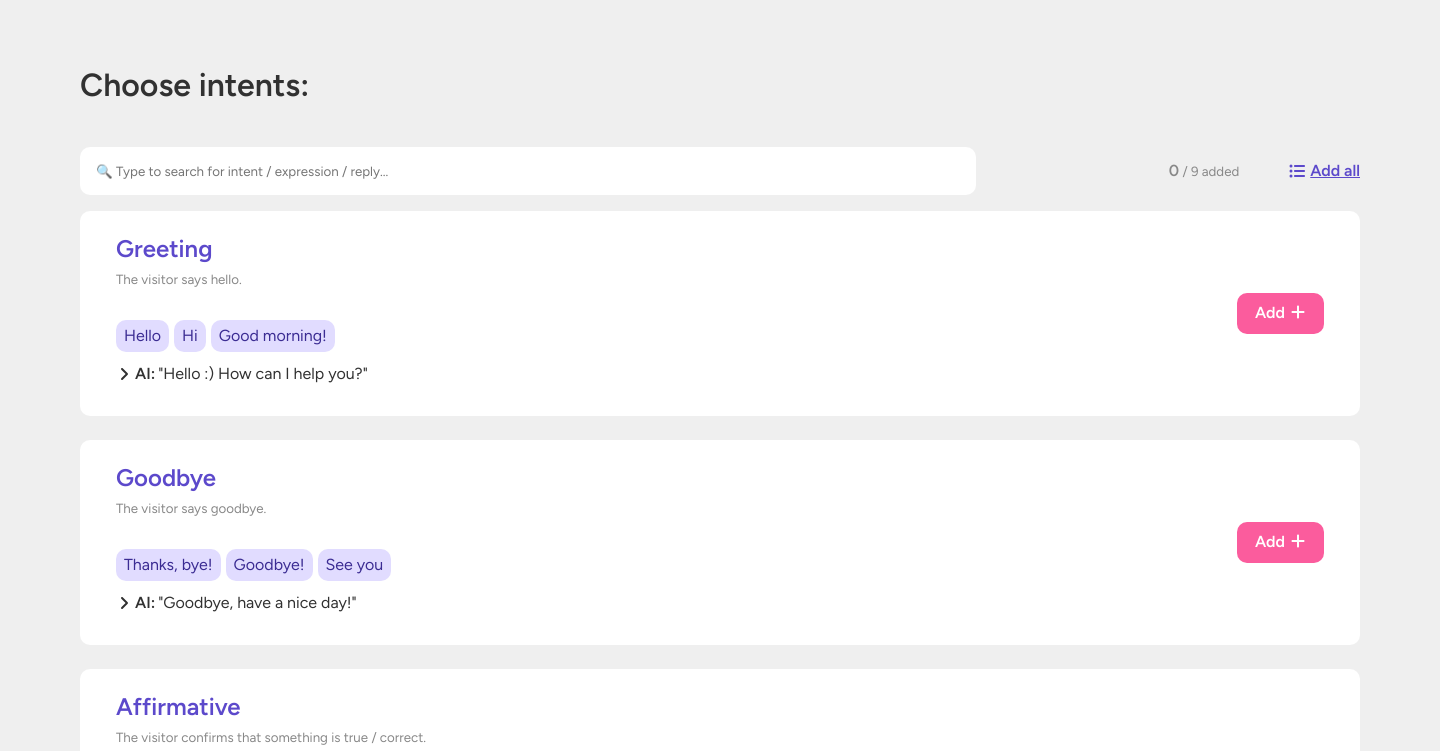
Test: e2e tests for intents: › shows a message if search returns no result
In the search field with placeholder "🔍 Type to search for intent / expression / reply...": (528, 171) left=80, top=147, right=976, bottom=195, type "hduhje984b8n3uu93n8u39un3fhskapmzbcx93"
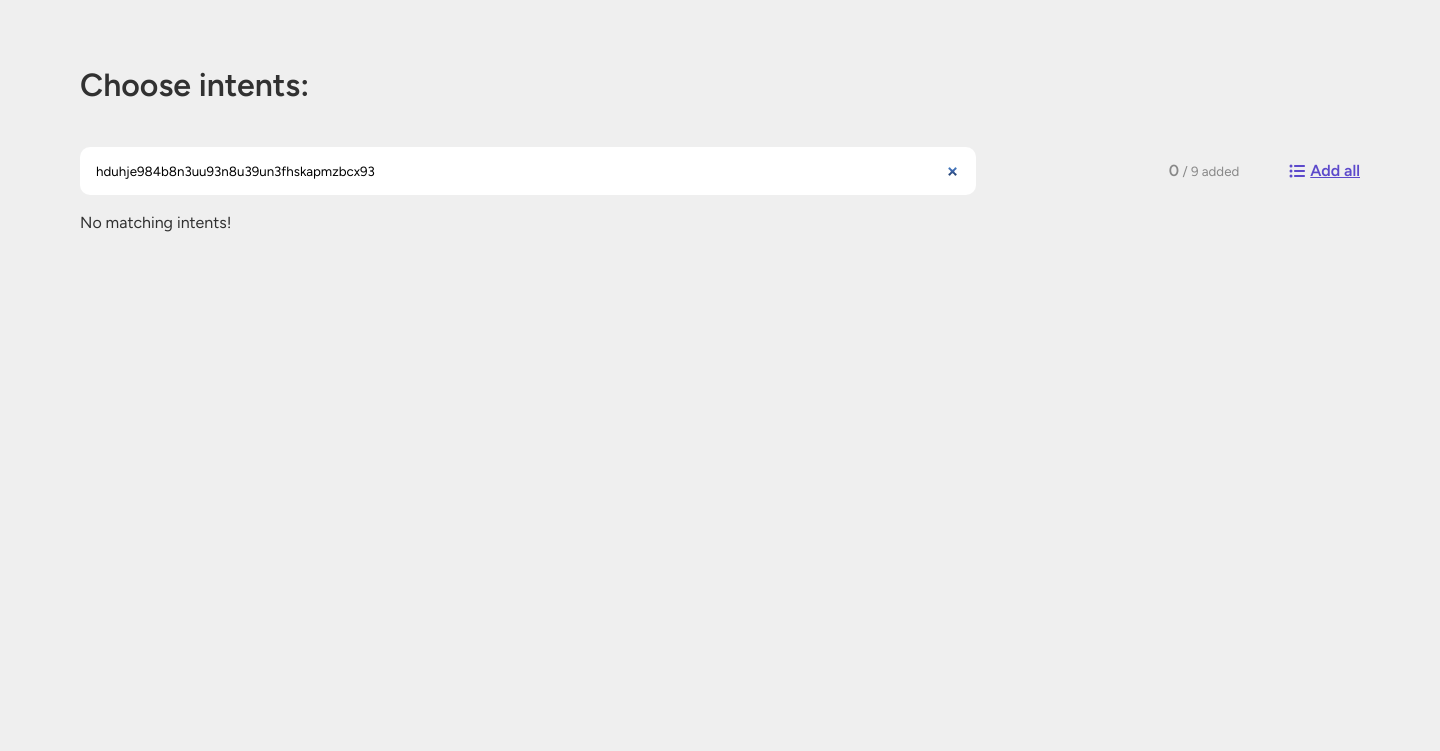
expect the text "No matching intents!" is shown: met, box left=80, top=213, right=232, bottom=232
